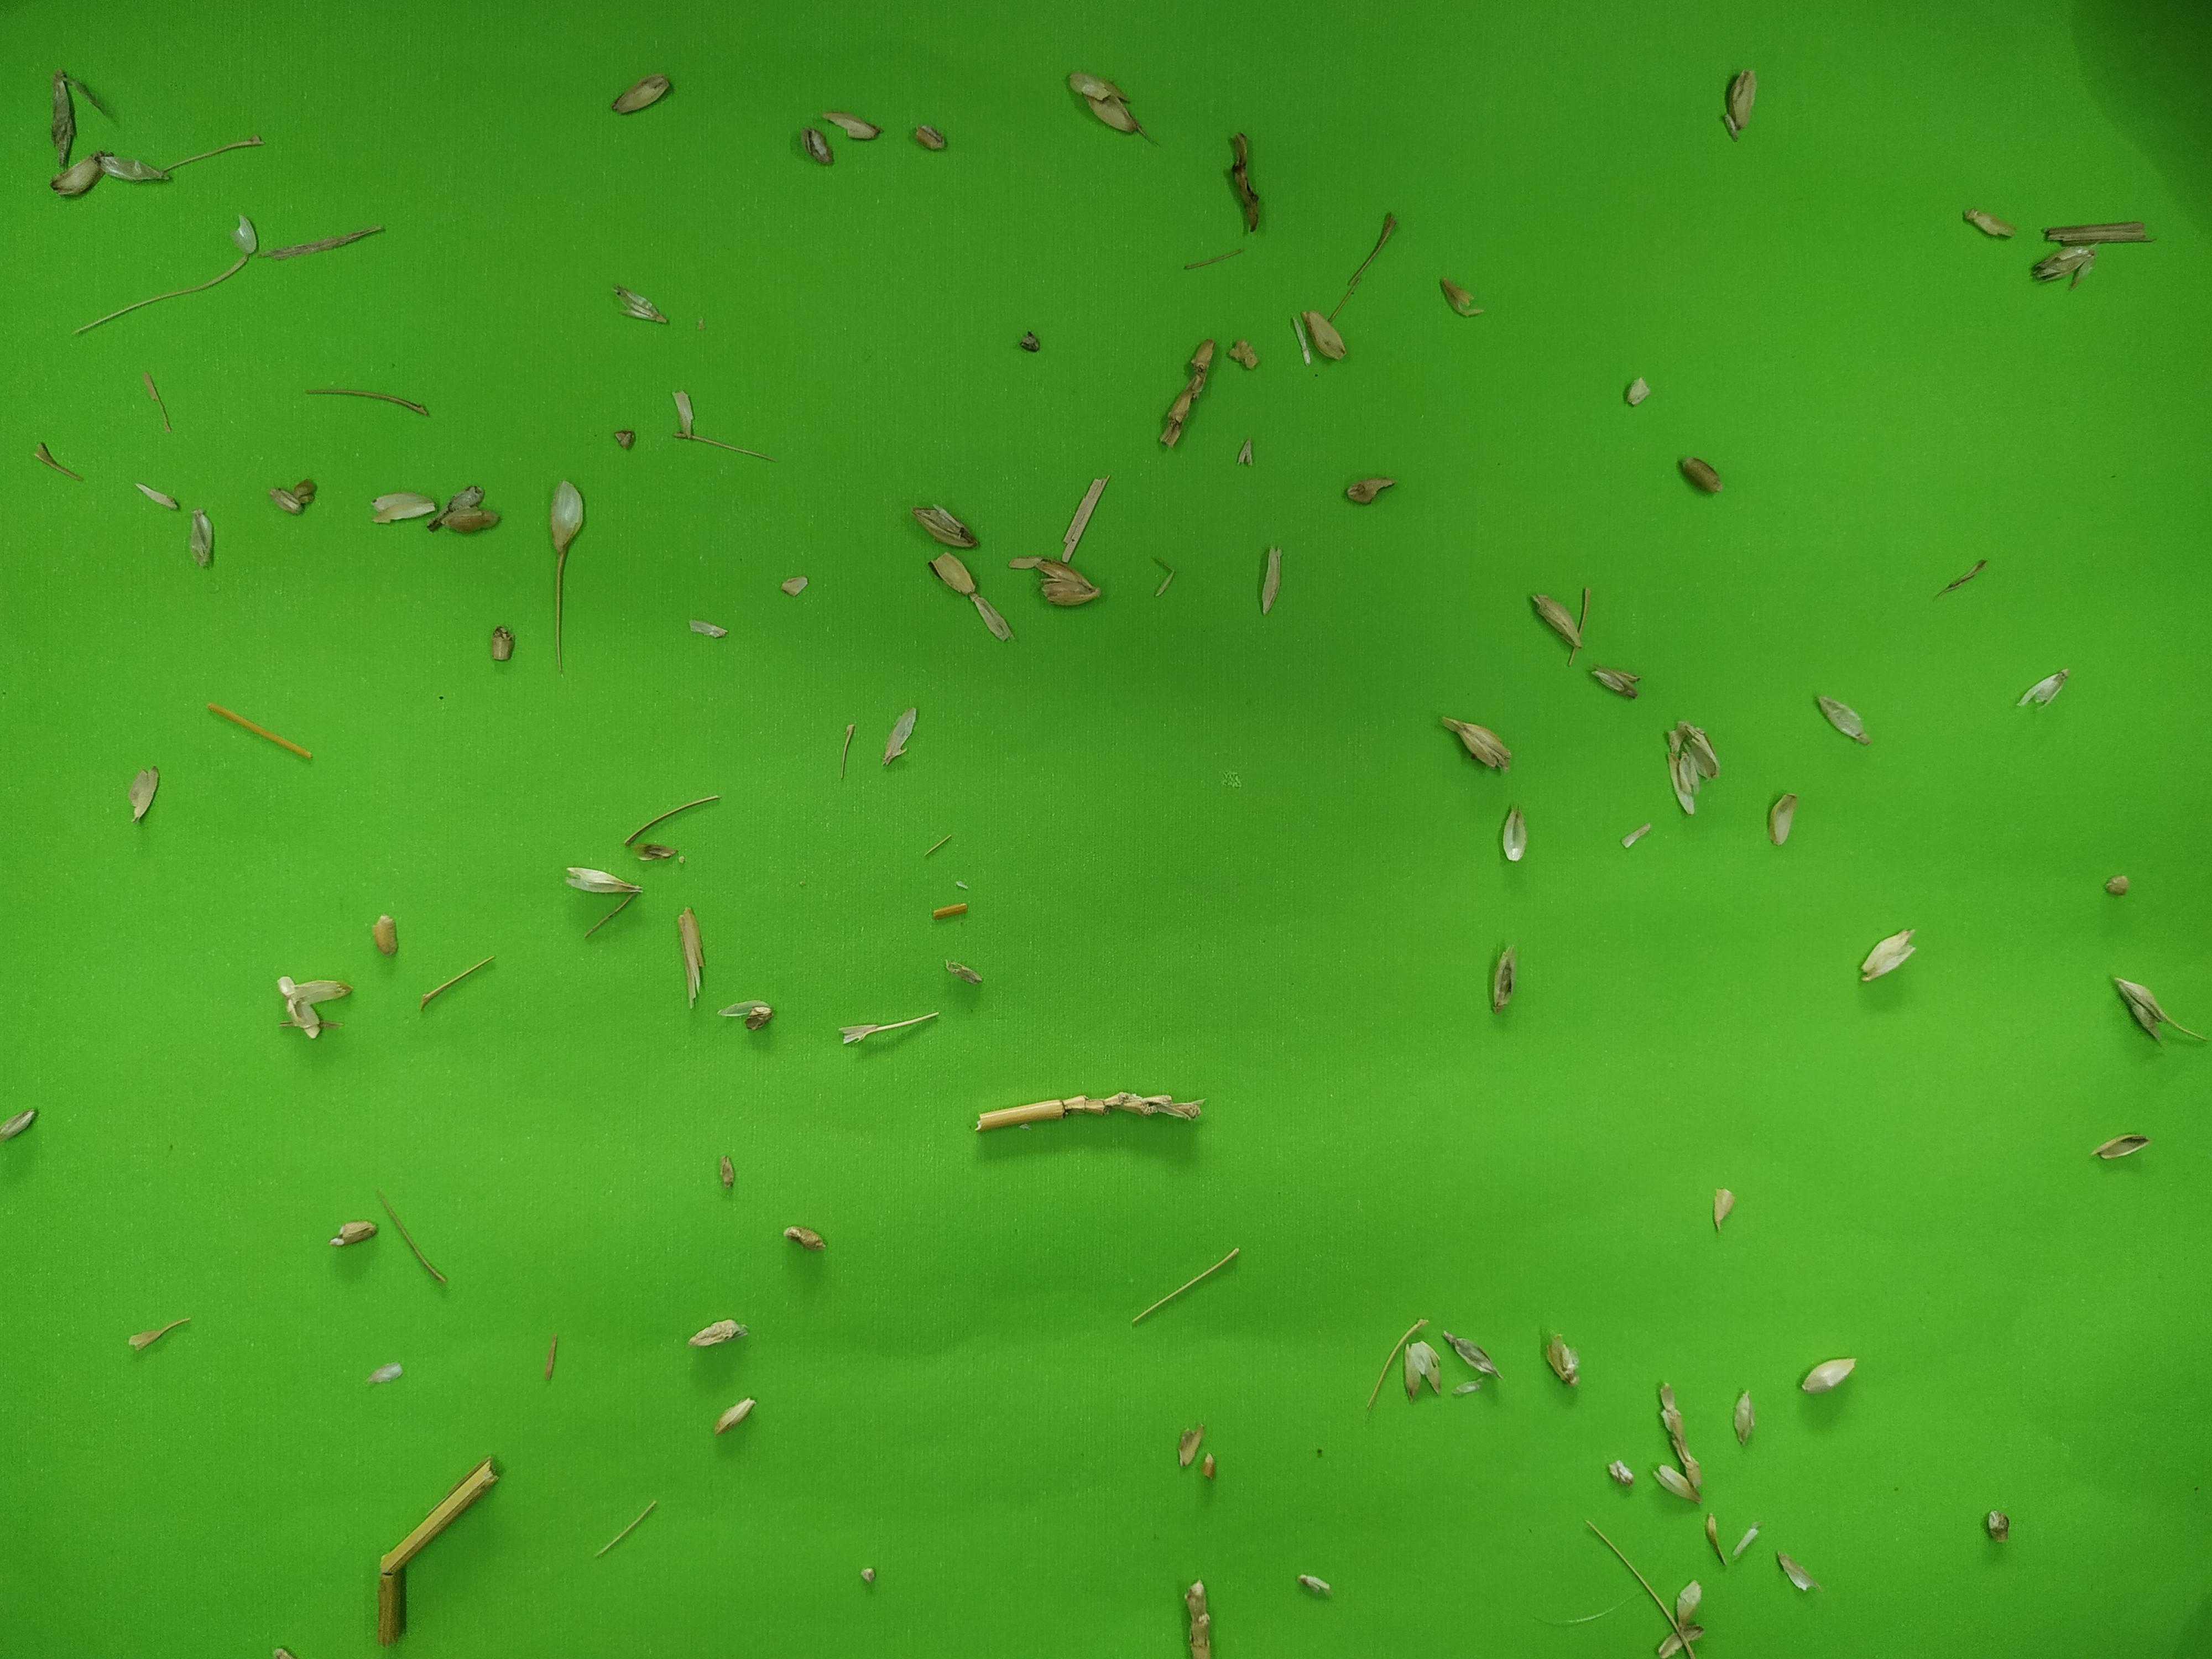bueno: (608, 68, 672, 118), (1681, 455, 1726, 495), (2094, 1133, 2142, 1162), (1639, 701, 1642, 706)
impureza: (378, 1446, 510, 1577), (1581, 1521, 1689, 1647), (73, 256, 242, 336), (961, 1091, 1211, 1143), (1127, 1248, 1240, 1331), (1322, 204, 1400, 322), (543, 476, 587, 676), (927, 549, 1012, 647), (1059, 70, 1160, 148), (1157, 336, 1221, 455), (1644, 1375, 1703, 1504), (202, 699, 319, 763), (1359, 1316, 1433, 1415), (2111, 972, 2205, 1049), (380, 1185, 448, 1284), (1663, 714, 1719, 824), (620, 789, 723, 845), (1435, 709, 1519, 775), (296, 378, 434, 418), (158, 132, 272, 178), (261, 223, 388, 261), (416, 955, 498, 1014), (1862, 920, 1933, 985), (2038, 213, 2160, 249), (902, 500, 982, 554), (590, 1497, 660, 1558), (672, 908, 709, 1021), (1224, 129, 1263, 237), (1061, 472, 1106, 561), (836, 1009, 946, 1046), (371, 1549, 411, 1649), (2026, 240, 2102, 291), (1400, 1335, 1451, 1410), (1522, 1596, 1632, 1629), (1036, 559, 1104, 610), (679, 429, 782, 462), (1794, 1351, 1865, 1398), (122, 1312, 199, 1356), (1815, 694, 1876, 748), (1439, 1326, 1505, 1375), (277, 971, 320, 1044), (425, 479, 486, 532), (606, 281, 671, 329), (49, 64, 80, 164), (1536, 1323, 1580, 1394), (583, 887, 646, 936), (1305, 303, 1352, 368), (94, 148, 174, 185), (2017, 664, 2073, 716), (1527, 592, 1585, 643), (44, 153, 103, 202), (1487, 938, 1522, 1019), (679, 1314, 752, 1352), (1721, 68, 1757, 143), (563, 859, 637, 896), (1184, 1568, 1214, 1659), (883, 701, 921, 770), (1254, 538, 1285, 620), (371, 490, 439, 526), (817, 106, 881, 145), (183, 505, 219, 572), (1592, 662, 1642, 709), (136, 371, 174, 432), (1569, 584, 1595, 673), (1764, 786, 1801, 849), (1703, 1178, 1738, 1243), (664, 383, 700, 444), (441, 505, 503, 540), (1726, 1389, 1761, 1452), (125, 762, 160, 824), (1493, 802, 1529, 861), (1935, 558, 1986, 599), (718, 995, 777, 1030), (1341, 474, 1399, 509), (291, 976, 355, 1006), (1958, 206, 2015, 239), (712, 1394, 761, 1432), (1183, 244, 1242, 275), (1146, 551, 1183, 599), (1433, 277, 1477, 317), (794, 124, 834, 167), (1775, 1547, 1813, 1593), (833, 714, 859, 781), (268, 479, 319, 512), (366, 913, 402, 958), (1172, 1420, 1205, 1469), (331, 1215, 380, 1248), (1977, 1507, 2017, 1547), (636, 840, 690, 870), (484, 620, 517, 667), (779, 1223, 829, 1253), (228, 214, 260, 261), (906, 120, 948, 155), (1289, 314, 1317, 366), (941, 955, 984, 988), (681, 615, 732, 643), (1599, 1453, 1637, 1490), (1224, 335, 1263, 371), (1705, 1511, 1728, 1572), (366, 1358, 409, 1389), (136, 479, 179, 511), (1674, 1575, 1705, 1619), (0, 1107, 38, 1141), (773, 568, 813, 601), (1728, 1520, 1757, 1563), (538, 1328, 563, 1378), (928, 896, 972, 924), (606, 422, 641, 457), (1622, 376, 1653, 415), (1622, 816, 1653, 852), (1294, 1570, 1332, 1600), (1014, 321, 1043, 357), (712, 1152, 740, 1190), (1444, 1378, 1491, 1399), (2102, 871, 2132, 903), (923, 833, 954, 863), (1230, 436, 1256, 471), (1001, 554, 1049, 572), (1200, 1448, 1219, 1485), (859, 1561, 880, 1589)
